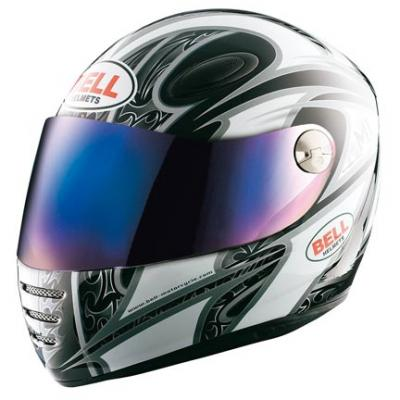helmet: (23, 11, 379, 353)
